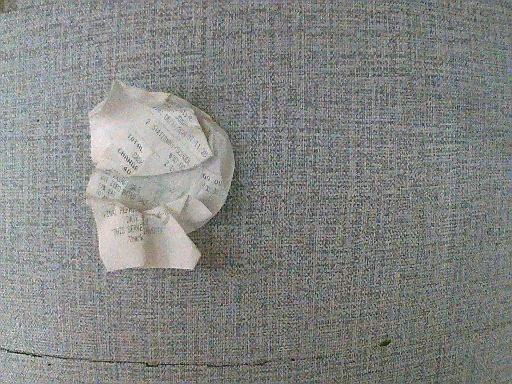paper: (81, 81, 230, 281)
